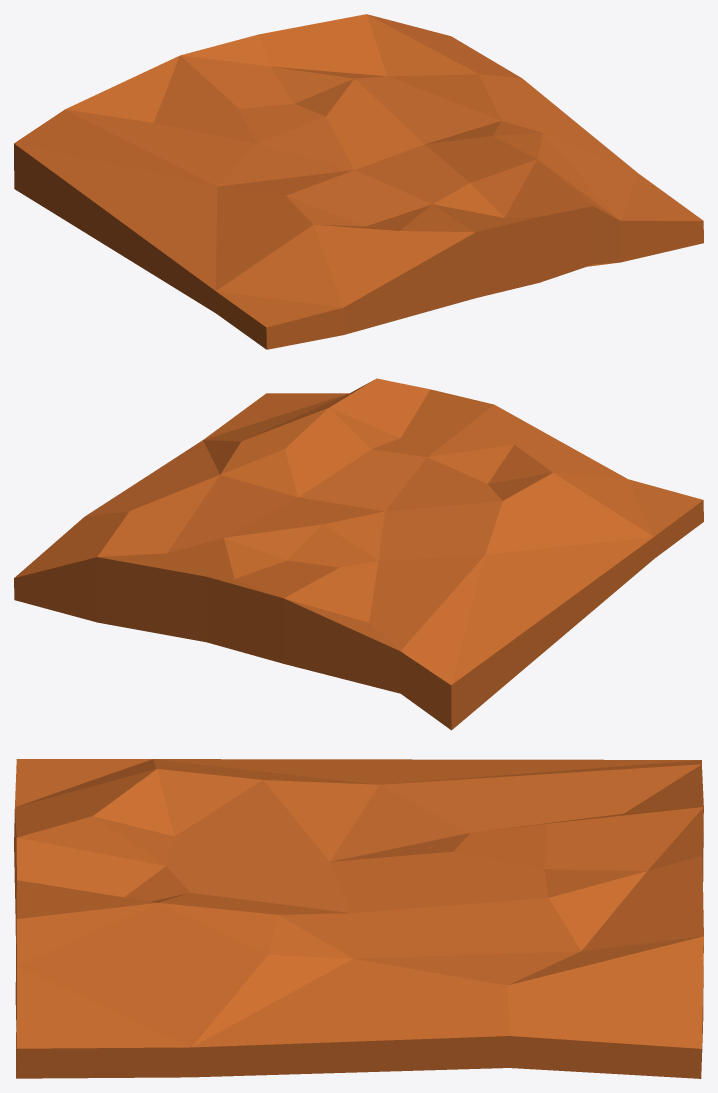
File: Path 2.fbx
The picture shows the model from 3 angles, top to bottom: view 1: azimuth 30°, elevation 25°; view 2: azimuth 150°, elevation 25°; view 3: azimuth 270°, elevation 25°; orthographic projection. The views are drawn at different scales.
Visible parts, largest first — view 1: Path 2; view 2: Path 2; view 3: Path 2.
Part boxes in pixels (x1=…): Path 2: x1=14, y1=14, x2=703, y2=349; Path 2: x1=14, y1=378, x2=703, y2=730; Path 2: x1=14, y1=759, x2=703, y2=1078.
Bounding box in the file's own units: 5.56 × 1.18 × 5.59.
